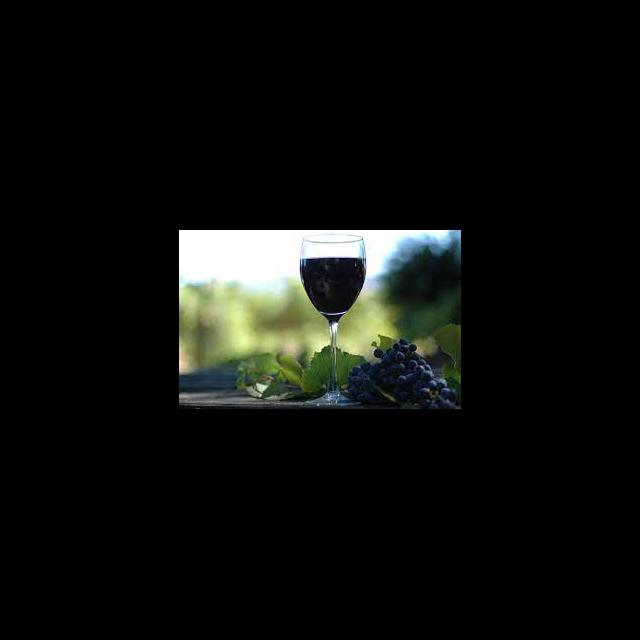grape: (342, 338, 458, 408)
